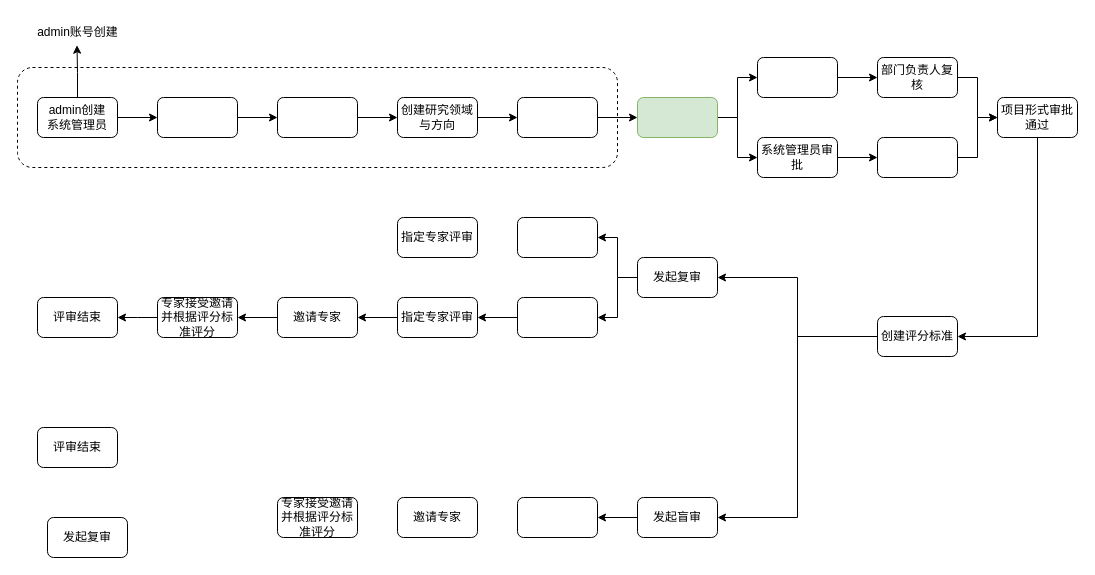
The diagram is 1095 pixels wide and 575 high, and some of its shapes have lost their labels. Here are the shapes that lost their labels. From the top down, the box of each, then its label:
(756, 56, 838, 98): 项目管理员审批
(156, 96, 238, 138): 系统管理员创建角色
(276, 96, 358, 138): 系统管理员创建用户
(516, 96, 598, 138): 创建申报 开启申报
(636, 96, 718, 138): 项目负责人 项目申报
(876, 136, 958, 178): 系统管理员复核
(516, 216, 598, 258): 发起复审 （线下评审）
(516, 296, 598, 338): 发起复审 （线上评审）
(516, 496, 598, 538): 指定专家 与盲选专家 评审
